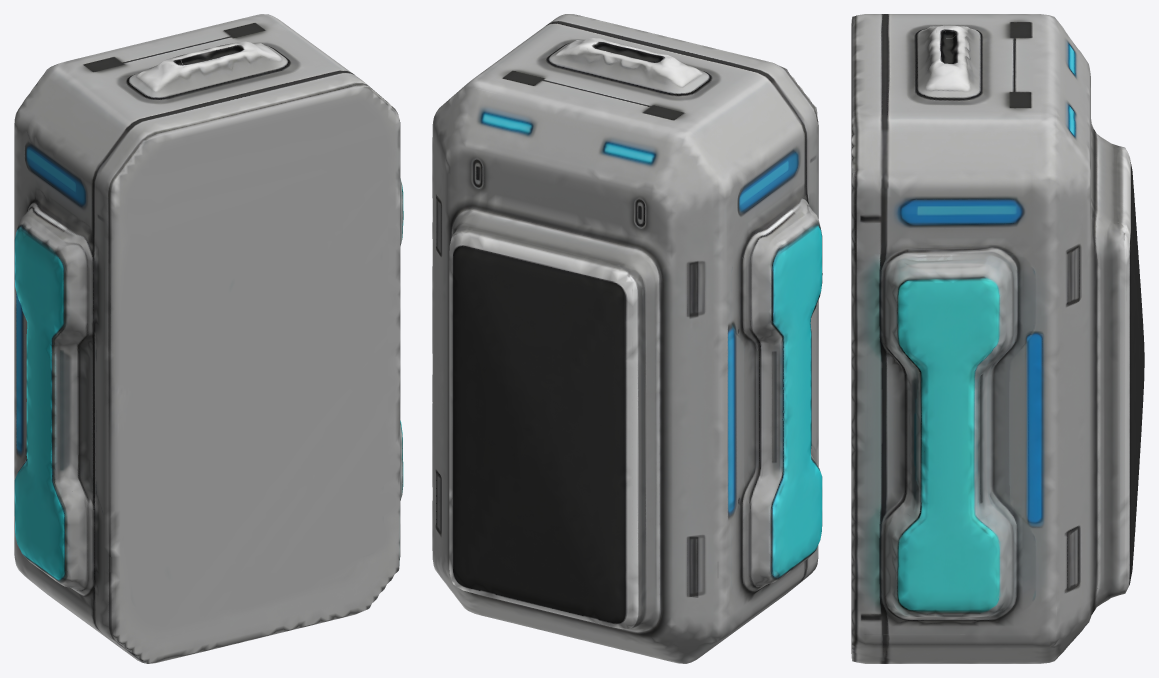
The model's file is BackPack_RE.fbx.
The picture shows the model from 3 angles, left to right: view 1: azimuth 30°, elevation 25°; view 2: azimuth 150°, elevation 25°; view 3: azimuth 270°, elevation 25°; orthographic projection. The views are drawn at different scales.
Parts seen in each view (by area): view 1: Mesh_0; view 2: Mesh_0; view 3: Mesh_0.
Boxes of the visible parts, x1=… form: Mesh_0: x1=14, y1=14, x2=403, y2=663; Mesh_0: x1=432, y1=14, x2=822, y2=663; Mesh_0: x1=851, y1=14, x2=1144, y2=663.
Size of the model in its own units: 130 by 200 by 93.82.
Materials: 1 (1 with a texture image).
